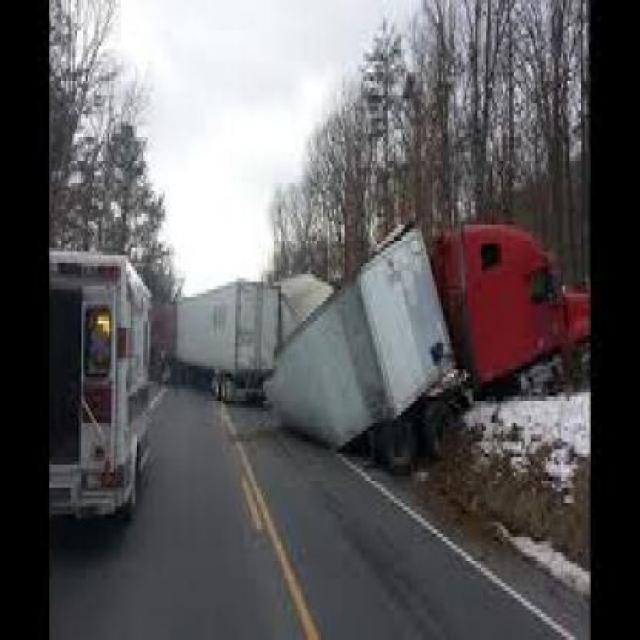accident: (262, 207, 588, 482)
